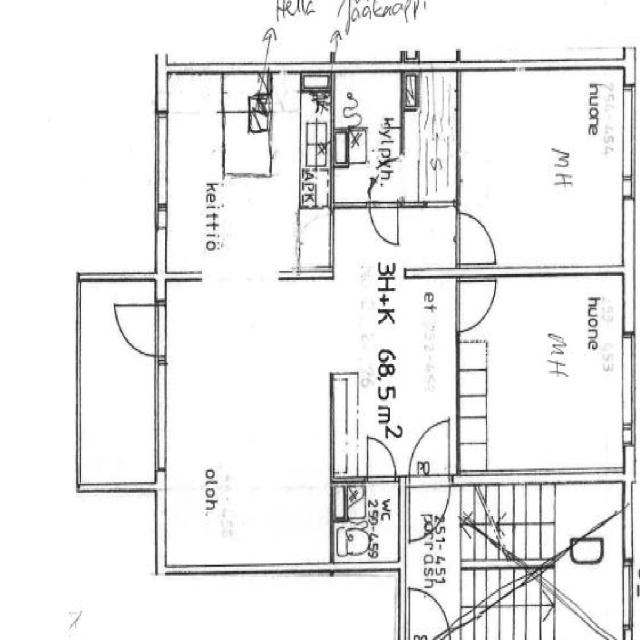door: (338, 439, 402, 563), (408, 413, 454, 479), (455, 274, 499, 336), (456, 206, 499, 268), (114, 301, 160, 358), (405, 583, 450, 640), (363, 432, 400, 484), (368, 198, 400, 246)
window: (150, 355, 173, 473), (150, 109, 172, 208), (620, 330, 639, 432), (621, 81, 639, 188), (198, 270, 281, 288)
zone: (459, 274, 633, 478), (460, 67, 632, 271), (345, 271, 460, 470), (76, 286, 159, 490), (404, 69, 458, 206), (339, 76, 402, 190), (552, 482, 623, 572), (333, 482, 402, 564), (333, 73, 401, 129), (295, 206, 333, 276)
